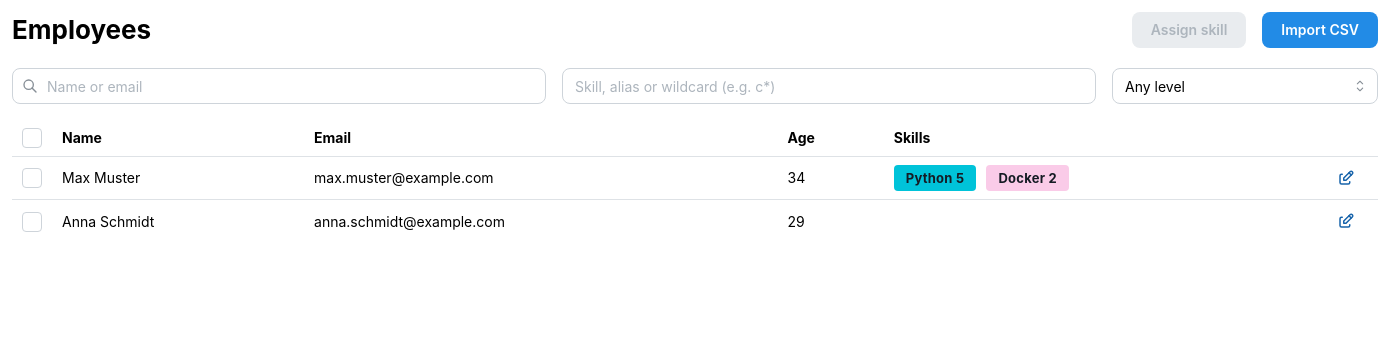
Test: EmployeeOverview › search › names every level in the minimum level selector
Click the dropdown named "Minimum level": [1245, 86] box left=1112, top=68, right=1378, bottom=104
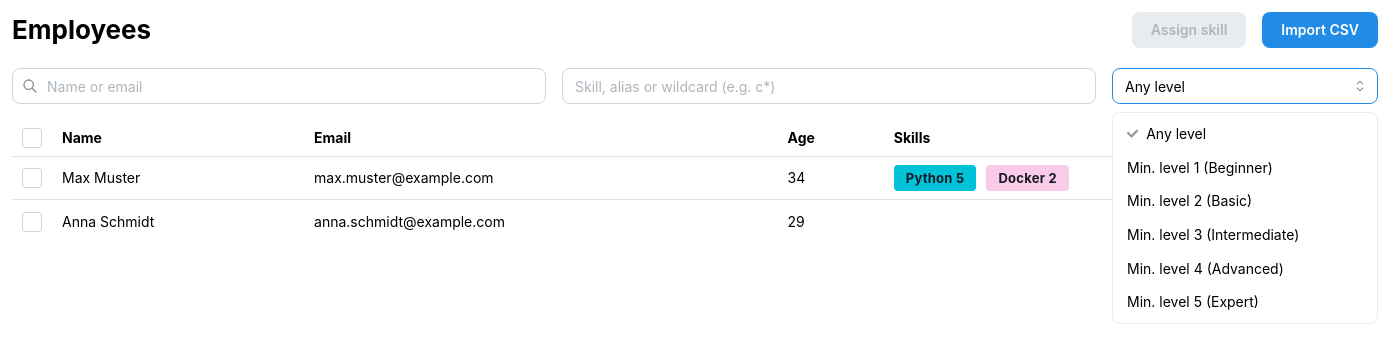
Expected: the options read "Any level", "Min. level 1 (Beginner)", "Min. level 2 (Basic)", "Min. level 3 (Intermediate)", "Min. level 4 (Advanced)", "Min. level 5 (Expert)", in this order, left=1127, top=125, right=1206, bottom=142; left=1127, top=159, right=1273, bottom=176; left=1127, top=192, right=1252, bottom=209; left=1127, top=226, right=1299, bottom=243; left=1127, top=260, right=1284, bottom=277; left=1127, top=293, right=1259, bottom=310
